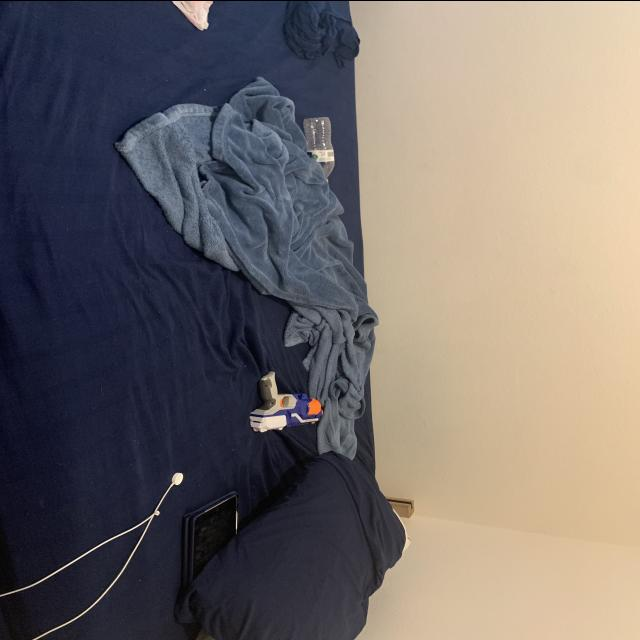nerf-maverik: (239, 365, 336, 437)
